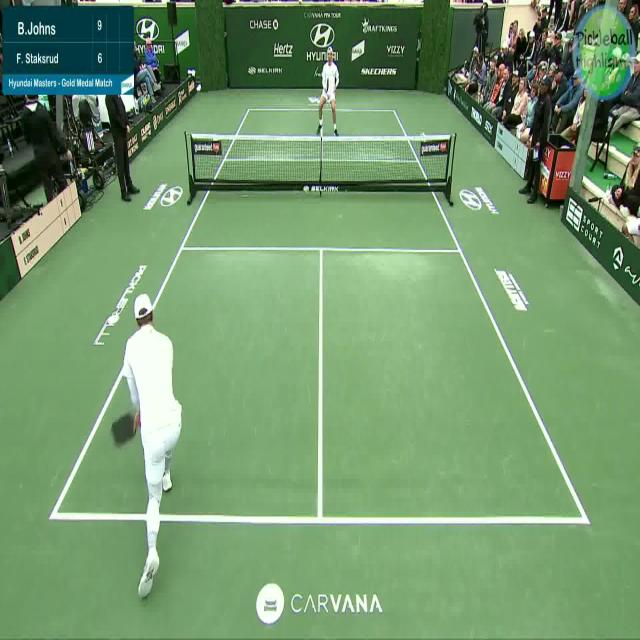Court: (53, 108, 587, 520)
